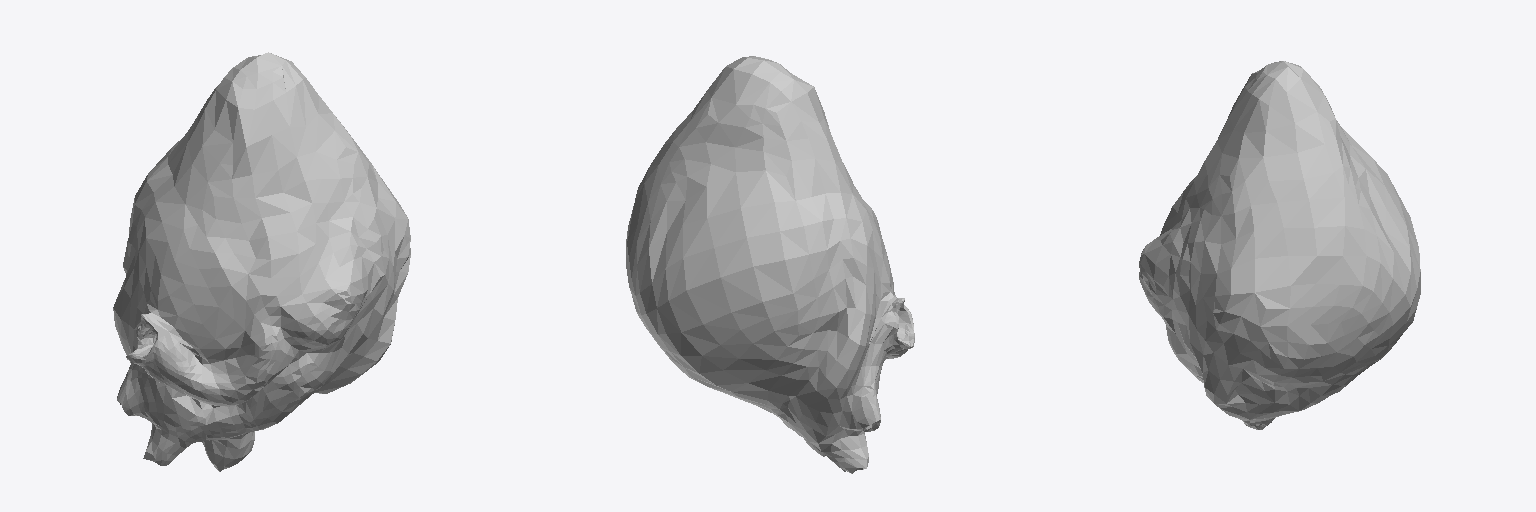
3 views of the same model, side by side, from view 1: azimuth 30°, elevation 25°; view 2: azimuth 150°, elevation 25°; view 3: azimuth 270°, elevation 25° (orthographic).
Parts seen in each view (by area): view 1: Heart.002; view 2: Heart.002; view 3: Heart.002.
Boxes of the visible parts, <box> form: Heart.002: <box>113,52,410,471</box>; Heart.002: <box>626,56,914,473</box>; Heart.002: <box>1139,61,1420,429</box>.
Size of the model in its own units: 2.96 by 4.06 by 2.63.